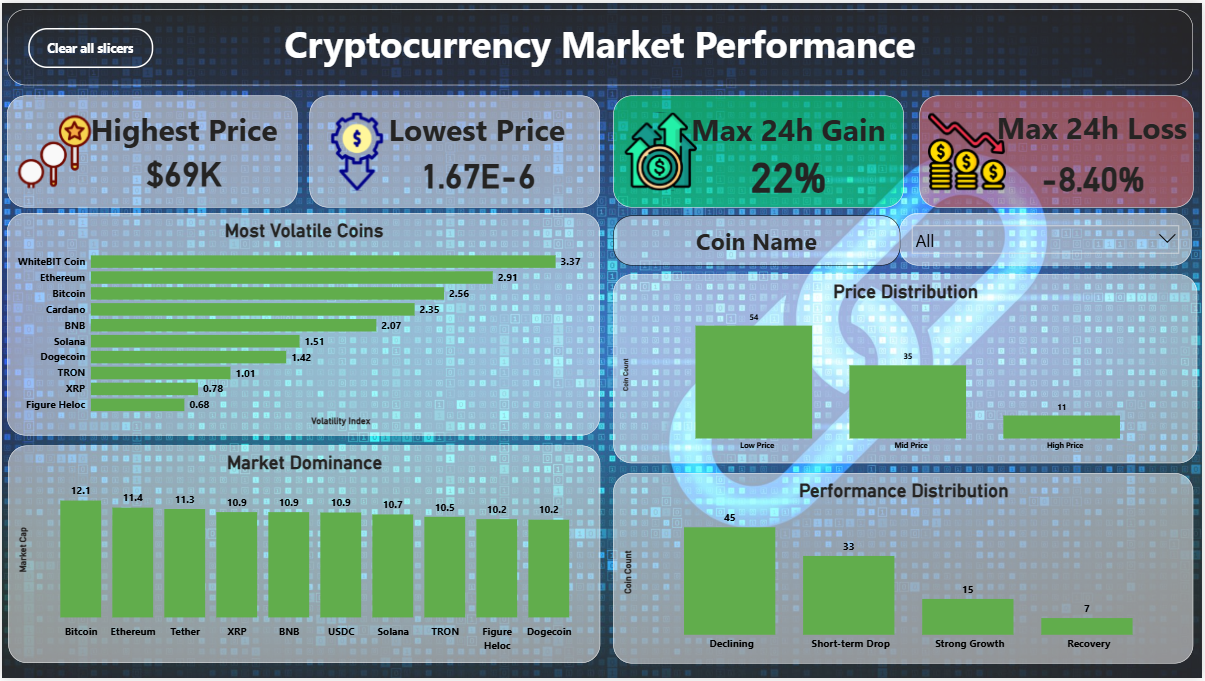

What the dashboard file says about the page in this screenshot:
{"tool":"powerbi","page":{"name":"Market Performance","canvas":[1920,1080],"ordinal":1},"visuals":[{"type":"textbox","box":[8.2,10.3,1897.8,121.4],"z":0},{"type":"actionButton","box":[8.2,148.2,465.2,179.1],"z":1000},{"type":"actionButton","box":[491.9,148.2,465.2,179.1],"z":2000},{"type":"actionButton","box":[977.7,148.2,465.2,179.1],"z":3000},{"type":"actionButton","box":[1467.6,148.2,438.4,179.1],"z":4000},{"type":"card","fields":{"Values":["All Measures.Max Price"]},"box":[189.4,222.3,201.7,90.6],"z":5000},{"type":"card","fields":{"Values":["All Measures.Max 24h Loss"]},"box":[1642.5,232.6,205.8,88.5],"z":6000},{"type":"card","fields":{"Values":["All Measures.Max 24h Gain"]},"box":[1148.5,222.3,220.2,98.8],"z":7000},{"type":"card","fields":{"Values":["All Measures.Min Price"]},"box":[621.6,232.6,279.9,78.2],"z":8000},{"type":"textbox","box":[109.1,164.7,362.3,98.8],"z":9000},{"type":"textbox","box":[592.8,164.7,335.5,90.6],"z":10000},{"type":"textbox","box":[1582.9,160.5,323.2,119.4],"z":11000},{"type":"clusteredBarChart","title":"Most Volatile Coins","fields":{"Category":["CryptoData.name"],"Y":["Sum(CryptoData.Volatility Index)"]},"box":[8.2,335.5,948.9,356.1],"z":12000},{"type":"clusteredColumnChart","title":"Price Distribution","fields":{"Y":["CountNonNull(CryptoData.name)"],"Category":["CryptoData.Price Category"]},"box":[977.7,434.3,934.5,302.6],"z":13000},{"type":"clusteredColumnChart","title":"Performance Distribution","fields":{"Y":["CountNonNull(CryptoData.name)"],"Category":["CryptoData.Performance Category"]},"box":[977.7,751.3,928.3,304.6],"z":14000},{"type":"clusteredColumnChart","title":"Market Dominance","fields":{"Y":["Sum(CryptoData.Log Market Cap)"],"Category":["CryptoData.name"]},"box":[10.3,708.1,946.8,347.9],"z":15000},{"type":"slicer","title":"Price Distribution","fields":{"Values":["CryptoData.name"]},"box":[1436.7,335.5,467.2,84.4],"z":16000},{"type":"textbox","box":[1080.6,164.7,356.1,94.7],"z":17000},{"type":"textbox","box":[977.7,339.6,459,80.3],"z":18000},{"type":"actionButton","box":[41.2,39.1,199.7,63.8],"z":19000}]}

Visuals, with their boxes in screenshot pixels (x1, y1, x2, y2), scaled from the page's 1920x1080 canvas onto the 1205x681 screenshot:
textbox: [5, 6, 1196, 83]
actionButton: [5, 93, 297, 206]
actionButton: [309, 93, 601, 206]
actionButton: [614, 93, 906, 206]
actionButton: [921, 93, 1196, 206]
card - All Measures.Max Price: [119, 140, 245, 197]
card - All Measures.Max 24h Loss: [1031, 147, 1160, 202]
card - All Measures.Max 24h Gain: [721, 140, 859, 202]
card - All Measures.Min Price: [390, 147, 566, 196]
textbox: [68, 104, 296, 166]
textbox: [372, 104, 583, 161]
textbox: [993, 101, 1196, 176]
"Most Volatile Coins" clusteredBarChart: [5, 212, 601, 436]
"Price Distribution" clusteredColumnChart: [614, 274, 1200, 465]
"Performance Distribution" clusteredColumnChart: [614, 474, 1196, 666]
"Market Dominance" clusteredColumnChart: [6, 446, 601, 666]
"Price Distribution" slicer: [902, 212, 1195, 265]
textbox: [678, 104, 902, 164]
textbox: [614, 214, 902, 265]
actionButton: [26, 25, 151, 65]
